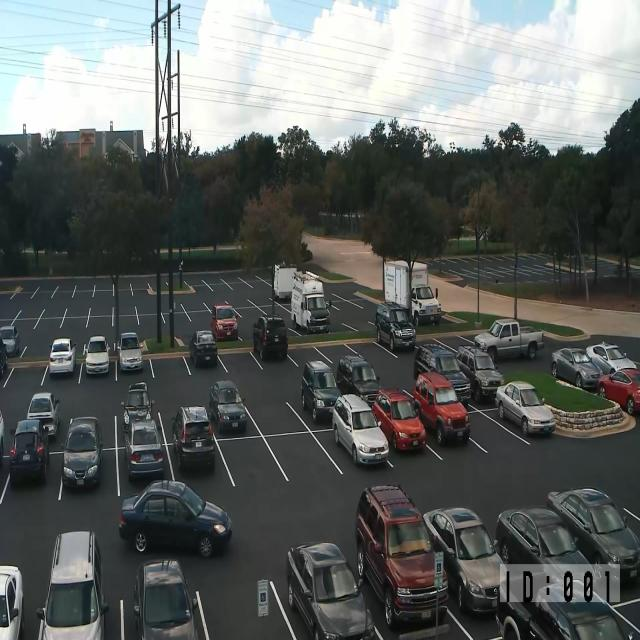car: (355, 484, 449, 630), (494, 506, 594, 604), (495, 573, 640, 639), (422, 506, 506, 616), (546, 486, 640, 584), (119, 479, 232, 558), (286, 541, 376, 639), (36, 530, 109, 639), (133, 558, 199, 640), (528, 599, 639, 640), (413, 371, 471, 446), (332, 393, 389, 466), (414, 344, 472, 408), (372, 387, 427, 452), (495, 381, 556, 436), (61, 415, 103, 489), (474, 318, 544, 362), (455, 344, 505, 403), (172, 405, 215, 471), (9, 418, 49, 484), (301, 360, 342, 423), (124, 418, 164, 480), (336, 354, 381, 408), (550, 347, 603, 390), (375, 301, 416, 351), (597, 368, 640, 415), (209, 380, 247, 432), (0, 564, 24, 640), (586, 340, 637, 375), (121, 381, 154, 433), (252, 314, 288, 360), (26, 392, 60, 439), (413, 342, 456, 379), (411, 283, 441, 327), (116, 332, 144, 372), (189, 330, 218, 368), (82, 336, 110, 375), (211, 303, 238, 342), (49, 337, 76, 375), (0, 325, 20, 356), (0, 337, 7, 378), (0, 408, 4, 467)
